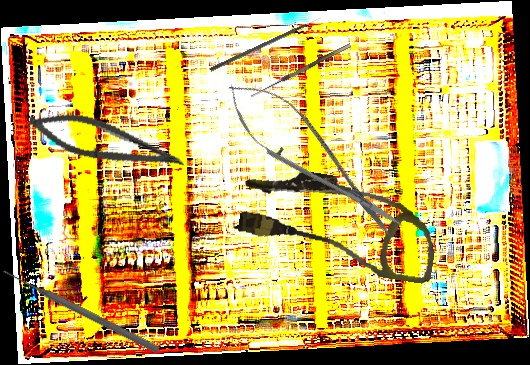Cannula: (233, 162, 445, 285)
Hook Surgical: (209, 16, 323, 73), (249, 43, 355, 103)
Micro Scissor: (211, 64, 416, 253), (24, 104, 190, 178)
Pusher: (0, 266, 162, 355)
